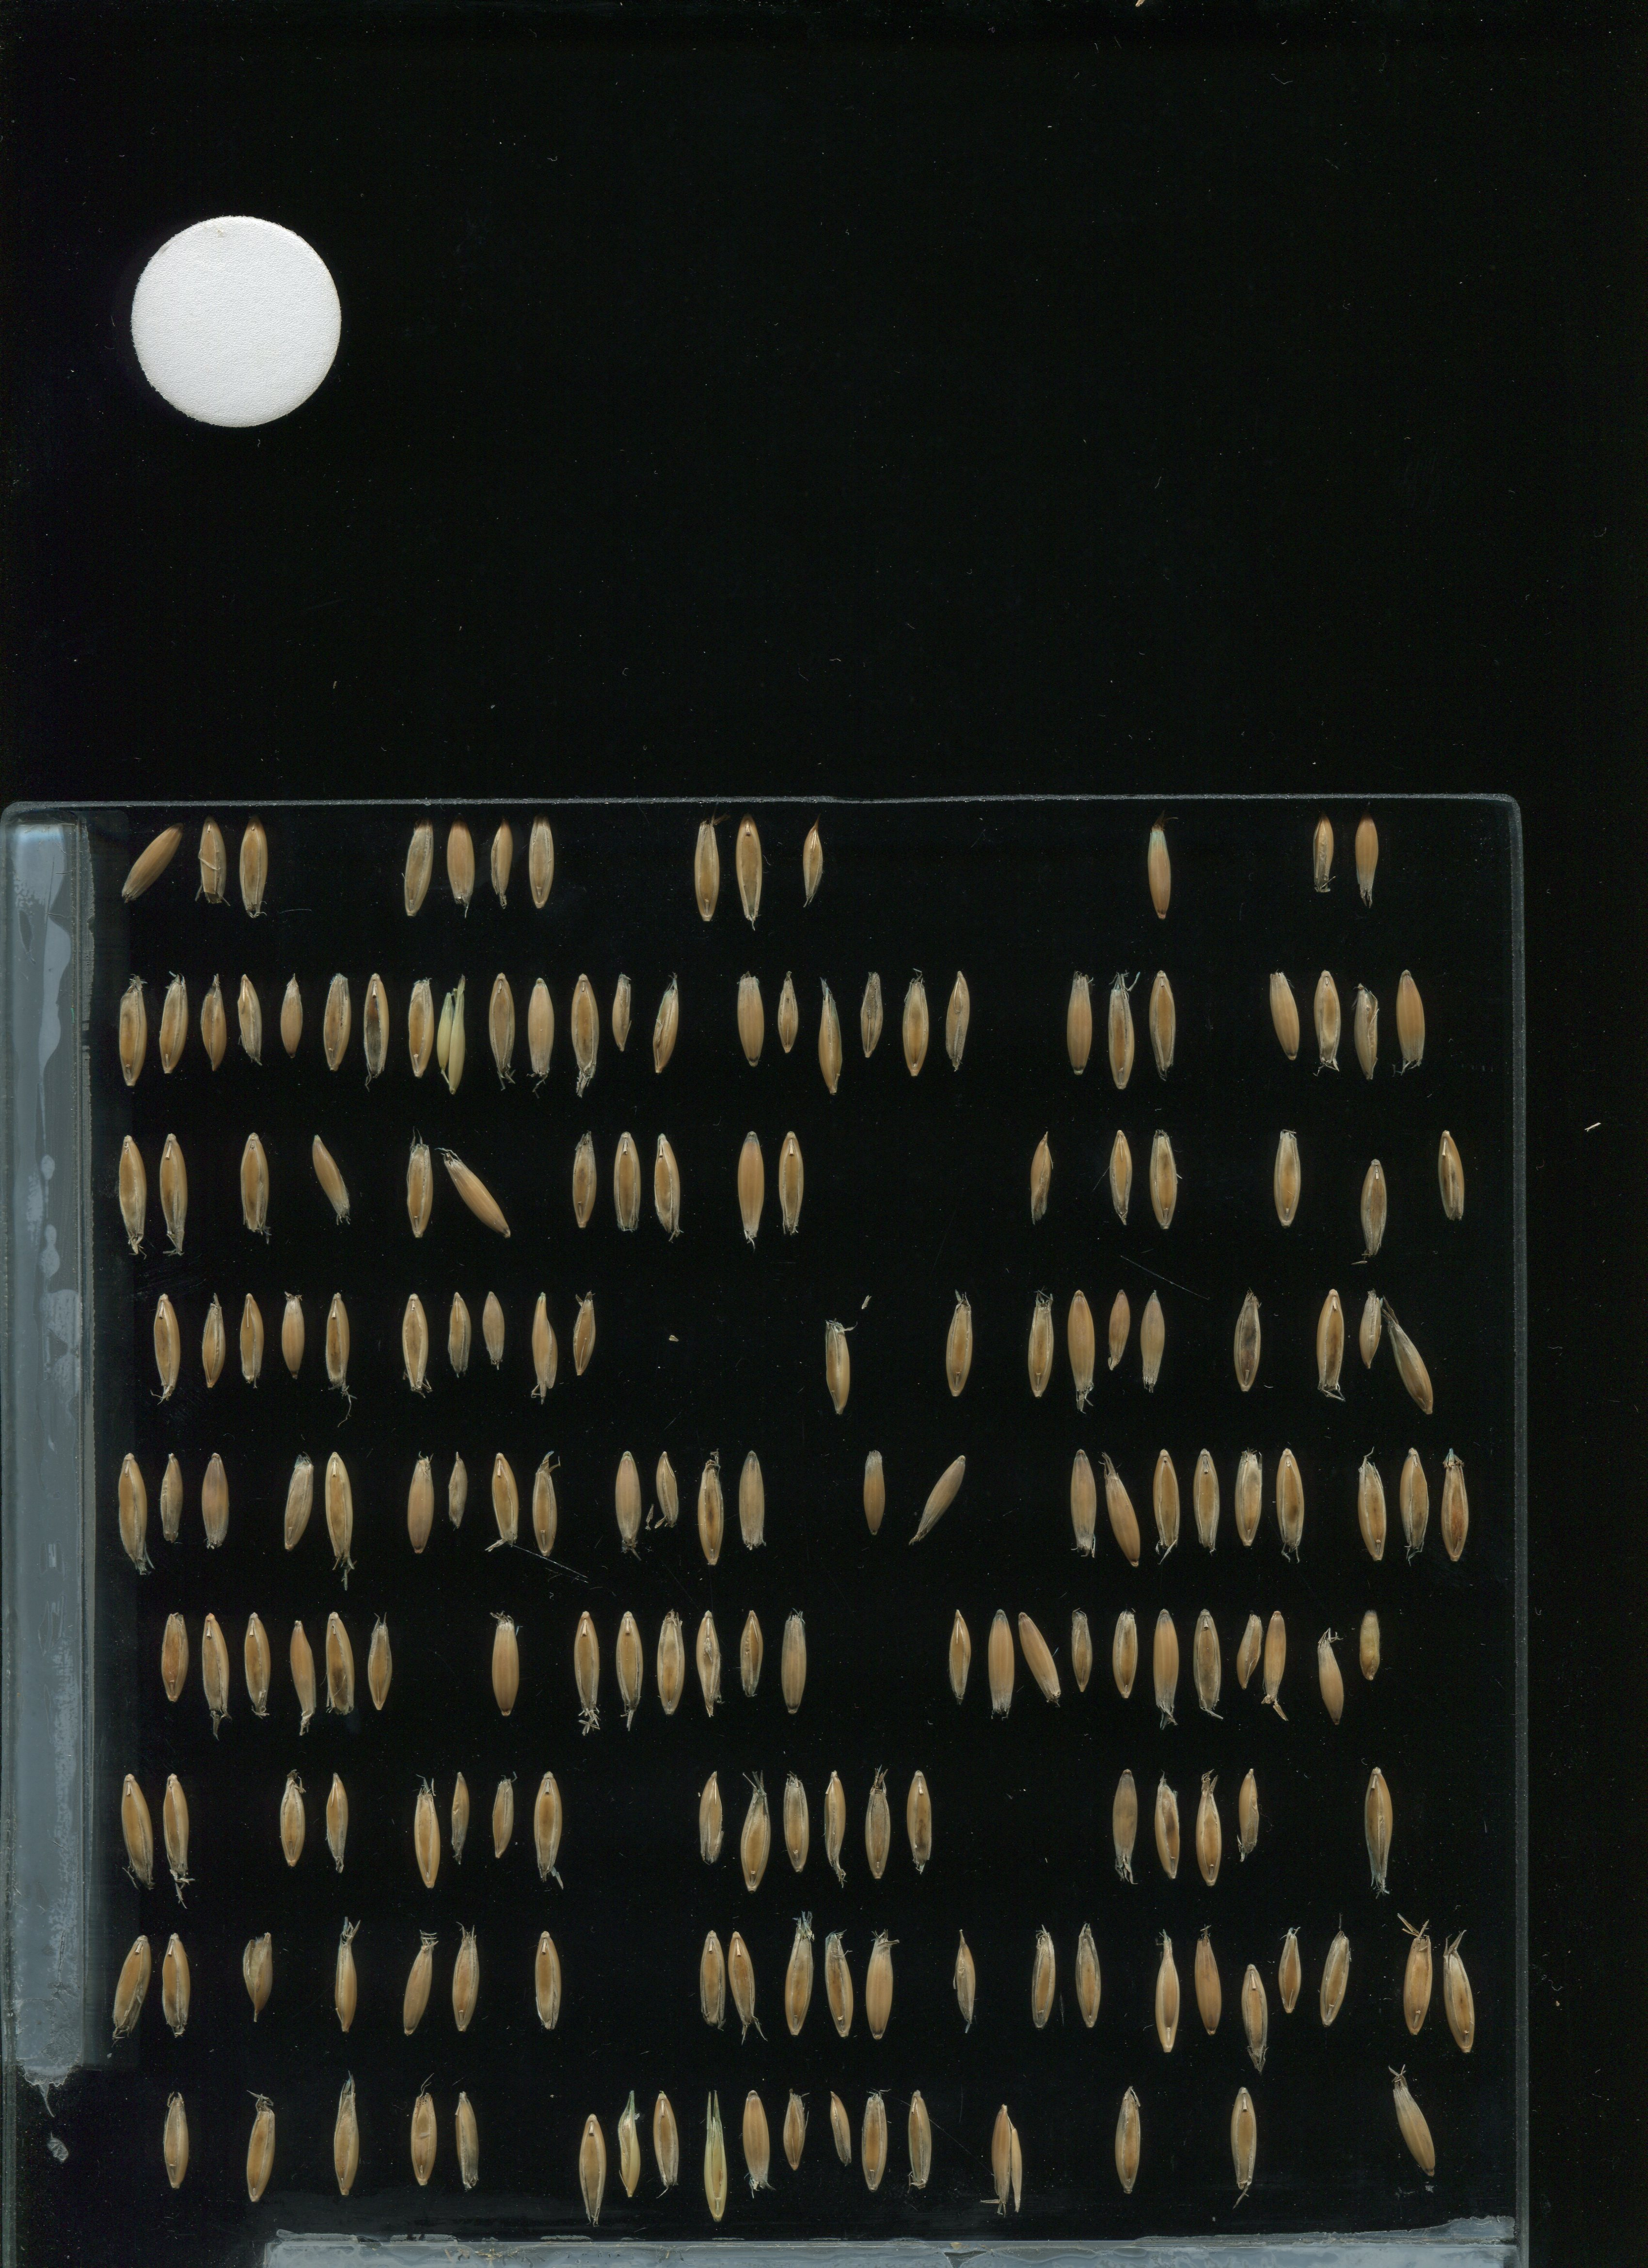NakedGrain: (1357, 1602, 1386, 1683)
WholeGrain: (1382, 1301, 1438, 1417), (442, 1153, 514, 1240), (120, 817, 188, 907), (909, 1449, 968, 1546), (1389, 2065, 1438, 2182), (986, 2088, 1026, 2220), (1104, 1442, 1144, 1572), (1398, 1914, 1438, 2044), (567, 967, 606, 1099), (482, 965, 521, 1097), (400, 963, 438, 1095), (357, 961, 396, 1093), (319, 960, 357, 1092), (114, 961, 153, 1093), (151, 958, 190, 1090), (190, 956, 229, 1088), (231, 954, 269, 1086), (155, 1125, 194, 1257), (234, 1122, 273, 1254), (401, 1125, 440, 1257), (565, 1118, 604, 1250), (607, 1120, 646, 1252), (648, 1120, 687, 1252), (731, 1120, 769, 1252), (1102, 1113, 1141, 1245), (1144, 1113, 1183, 1245), (1269, 1111, 1308, 1243), (1433, 1111, 1472, 1243), (1352, 1134, 1391, 1266), (148, 1278, 187, 1410), (195, 1277, 234, 1409), (232, 1278, 271, 1410), (275, 1278, 313, 1410), (320, 1278, 359, 1410), (396, 1277, 435, 1409), (438, 1275, 477, 1407), (523, 1284, 562, 1416), (942, 1284, 981, 1416), (1021, 1278, 1060, 1410), (1062, 1282, 1100, 1414), (1231, 1275, 1269, 1407), (1312, 1273, 1350, 1405), (114, 1447, 153, 1579), (155, 1437, 194, 1569), (195, 1432, 234, 1564), (280, 1432, 319, 1564), (320, 1440, 359, 1572), (403, 1437, 442, 1569), (484, 1439, 523, 1571), (528, 1440, 567, 1572), (609, 1437, 648, 1569), (692, 1442, 731, 1574), (732, 1435, 771, 1567), (1146, 1435, 1185, 1567), (1187, 1435, 1225, 1567), (1229, 1437, 1268, 1569), (1269, 1435, 1308, 1567), (1396, 1433, 1435, 1565), (1438, 1437, 1477, 1569), (157, 1594, 195, 1726), (199, 1601, 238, 1733), (238, 1601, 276, 1733), (285, 1604, 324, 1736), (320, 1604, 359, 1736), (361, 1602, 400, 1734), (486, 1602, 525, 1734), (569, 1606, 607, 1738), (609, 1604, 648, 1736), (651, 1601, 690, 1733), (775, 1595, 813, 1727), (982, 1599, 1021, 1731), (1148, 1597, 1187, 1729), (1187, 1594, 1225, 1726), (1259, 1594, 1298, 1726), (118, 1764, 157, 1896), (157, 1764, 195, 1896), (271, 1754, 310, 1886), (315, 1757, 354, 1889), (484, 1754, 523, 1886), (528, 1754, 567, 1886), (736, 1763, 775, 1895), (775, 1759, 813, 1891), (817, 1763, 856, 1895), (896, 1756, 935, 1888), (1150, 1757, 1188, 1889), (1192, 1757, 1231, 1889), (1232, 1749, 1271, 1881), (1442, 1926, 1481, 2058), (1271, 1911, 1310, 2043), (1236, 1949, 1275, 2081), (1188, 1918, 1227, 2050), (1148, 1926, 1187, 2058), (1067, 1914, 1106, 2046), (1023, 1914, 1062, 2046), (942, 1921, 981, 2053), (861, 1919, 900, 2051), (820, 1921, 859, 2053), (724, 1918, 762, 2050), (530, 1914, 569, 2046), (447, 1914, 486, 2046), (401, 1918, 440, 2050), (113, 1918, 151, 2050), (158, 2069, 197, 2201), (245, 2081, 283, 2213), (329, 2065, 368, 2198), (405, 2065, 444, 2198), (449, 2067, 488, 2199), (570, 2102, 609, 2235), (607, 2076, 646, 2208), (646, 2074, 685, 2206), (695, 2088, 734, 2220), (736, 2076, 775, 2208), (854, 2069, 893, 2201), (903, 2069, 942, 2201), (988, 2090, 1026, 2222), (1109, 2074, 1148, 2206), (521, 965, 560, 1095), (435, 965, 474, 1095), (113, 1129, 151, 1259), (771, 1120, 810, 1250), (1062, 1435, 1100, 1565), (1354, 1435, 1393, 1565), (692, 1599, 731, 1729), (1359, 1763, 1398, 1893), (408, 1761, 447, 1891), (856, 1761, 894, 1891), (1107, 1761, 1146, 1891), (1315, 1914, 1354, 2044), (780, 1914, 819, 2044), (694, 1916, 732, 2046), (327, 1914, 366, 2044), (157, 1914, 195, 2044), (1224, 2078, 1262, 2208), (1016, 1604, 1065, 1706), (1104, 970, 1143, 1093), (308, 1132, 356, 1229), (521, 808, 562, 919), (731, 961, 771, 1072), (444, 812, 484, 921), (481, 810, 521, 919), (688, 819, 729, 928), (1141, 815, 1181, 924), (1387, 965, 1428, 1074), (1306, 965, 1347, 1074), (1262, 963, 1303, 1072), (1141, 965, 1181, 1074), (1060, 968, 1100, 1078), (898, 970, 938, 1079), (815, 986, 856, 1095), (768, 958, 808, 1067), (602, 958, 643, 1067), (731, 817, 769, 928), (1345, 806, 1384, 917), (856, 961, 894, 1072), (236, 814, 275, 923), (398, 812, 437, 921), (1347, 972, 1386, 1081), (940, 965, 979, 1074), (646, 968, 685, 1078), (732, 1597, 771, 1706), (938, 1599, 977, 1708), (1107, 1601, 1146, 1710), (1227, 1594, 1266, 1703), (444, 1757, 482, 1867), (822, 2073, 861, 2182), (775, 2071, 813, 2180), (1062, 1599, 1100, 1706), (1312, 1618, 1350, 1726), (694, 1761, 732, 1868), (238, 1928, 276, 2025), (275, 961, 310, 1064), (1023, 1125, 1058, 1226), (194, 815, 231, 910), (819, 1322, 856, 1416), (1136, 1285, 1167, 1393), (794, 819, 829, 912), (477, 1285, 512, 1379), (1100, 1285, 1136, 1379), (1352, 1278, 1387, 1372), (442, 1447, 477, 1541), (650, 1442, 685, 1535), (854, 1444, 889, 1537), (1305, 810, 1340, 902), (565, 1291, 600, 1382)
